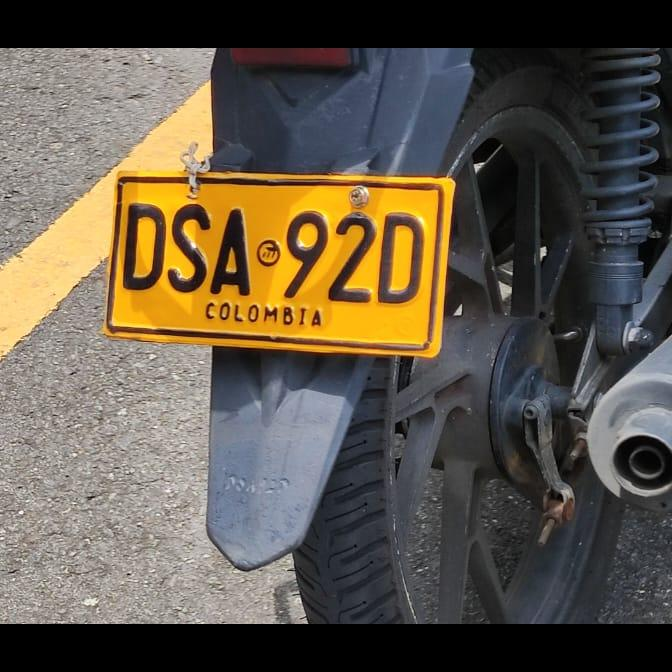plates: (101, 172, 452, 355)
